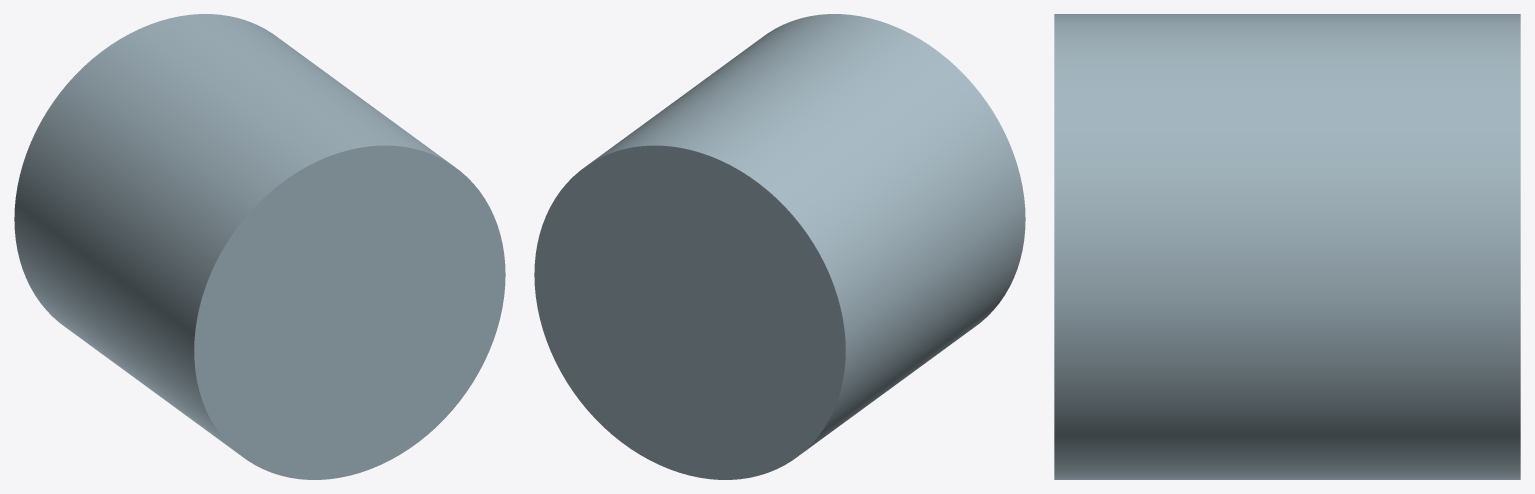
3 views of the same model, side by side, from view 1: azimuth 30°, elevation 25°; view 2: azimuth 150°, elevation 25°; view 3: azimuth 270°, elevation 25° (orthographic). The views are drawn at different scales.
Visible parts, largest first — view 1: 本体_直筒段; view 2: 本体_直筒段; view 3: 本体_直筒段.
Part boxes in pixels (x1,y1,x2,y2): 本体_直筒段: [14, 14, 505, 479]; 本体_直筒段: [534, 14, 1025, 479]; 本体_直筒段: [1054, 14, 1520, 479].
Size of the model in its own units: 1 by 1 by 1.
